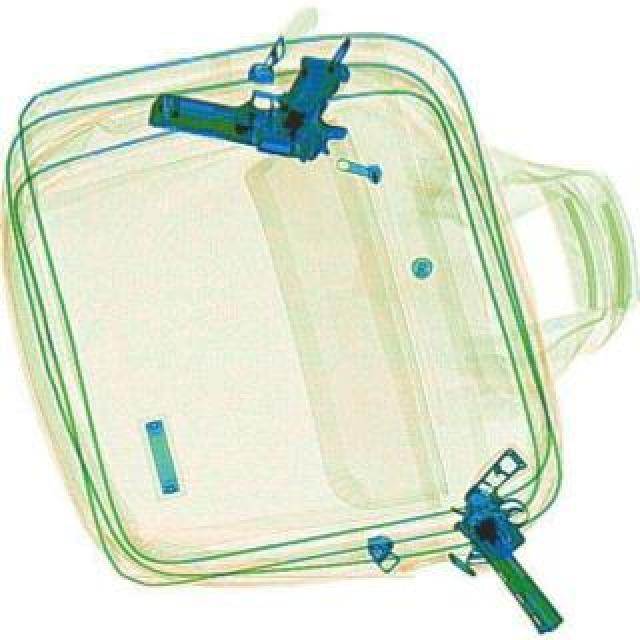gun: (426, 442, 614, 638), (144, 20, 364, 170)
